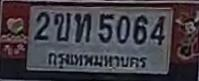0: (116, 14, 129, 42)
2: (33, 11, 49, 39)
4: (150, 15, 164, 44)
5: (98, 12, 113, 41)
6: (132, 14, 147, 43)
A02: (53, 12, 70, 40)
A23: (74, 12, 90, 42)
BKK: (45, 49, 148, 73)
